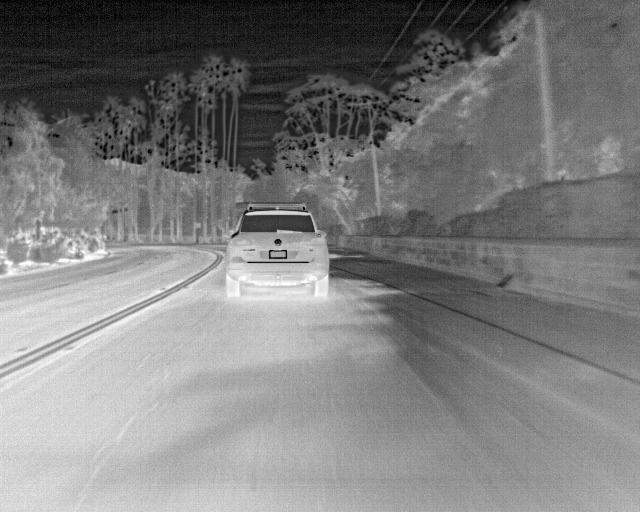car: (225, 202, 329, 301)
